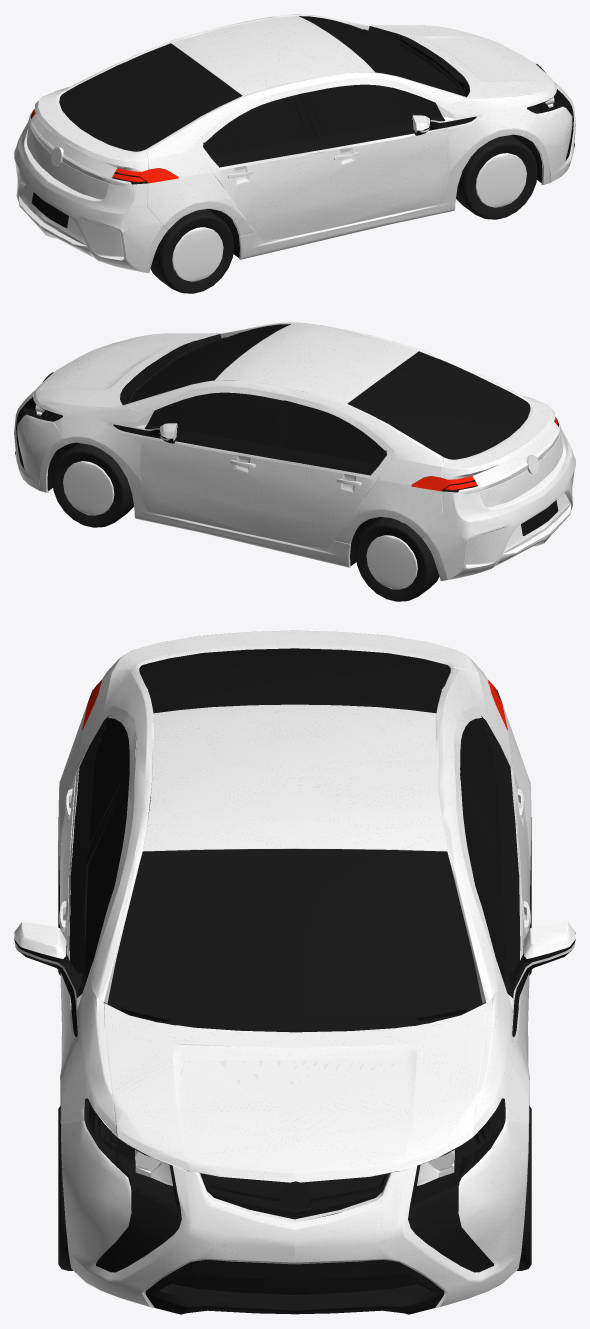
File: sm_opel_ampera_lod_2.fbx
The picture shows the model from 3 angles, top to bottom: view 1: azimuth 30°, elevation 25°; view 2: azimuth 150°, elevation 25°; view 3: azimuth 270°, elevation 25°; orthographic projection. The views are drawn at different scales.
Visible parts, largest first — view 1: lod_2; view 2: lod_2; view 3: lod_2.
Part boxes in pixels (left/top/right/bottom): lod_2: left=14, top=14, right=575, bottom=293; lod_2: left=14, top=322, right=575, bottom=601; lod_2: left=14, top=630, right=575, bottom=1314.
Size of the model in its own units: 3.41 by 1.07 by 1.64.
Materials: 6 (6 with a texture image).
